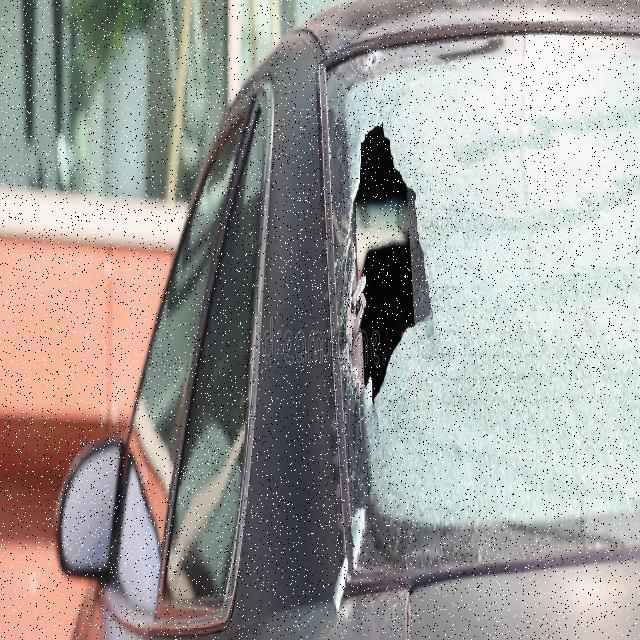car damage: (291, 23, 640, 639)
